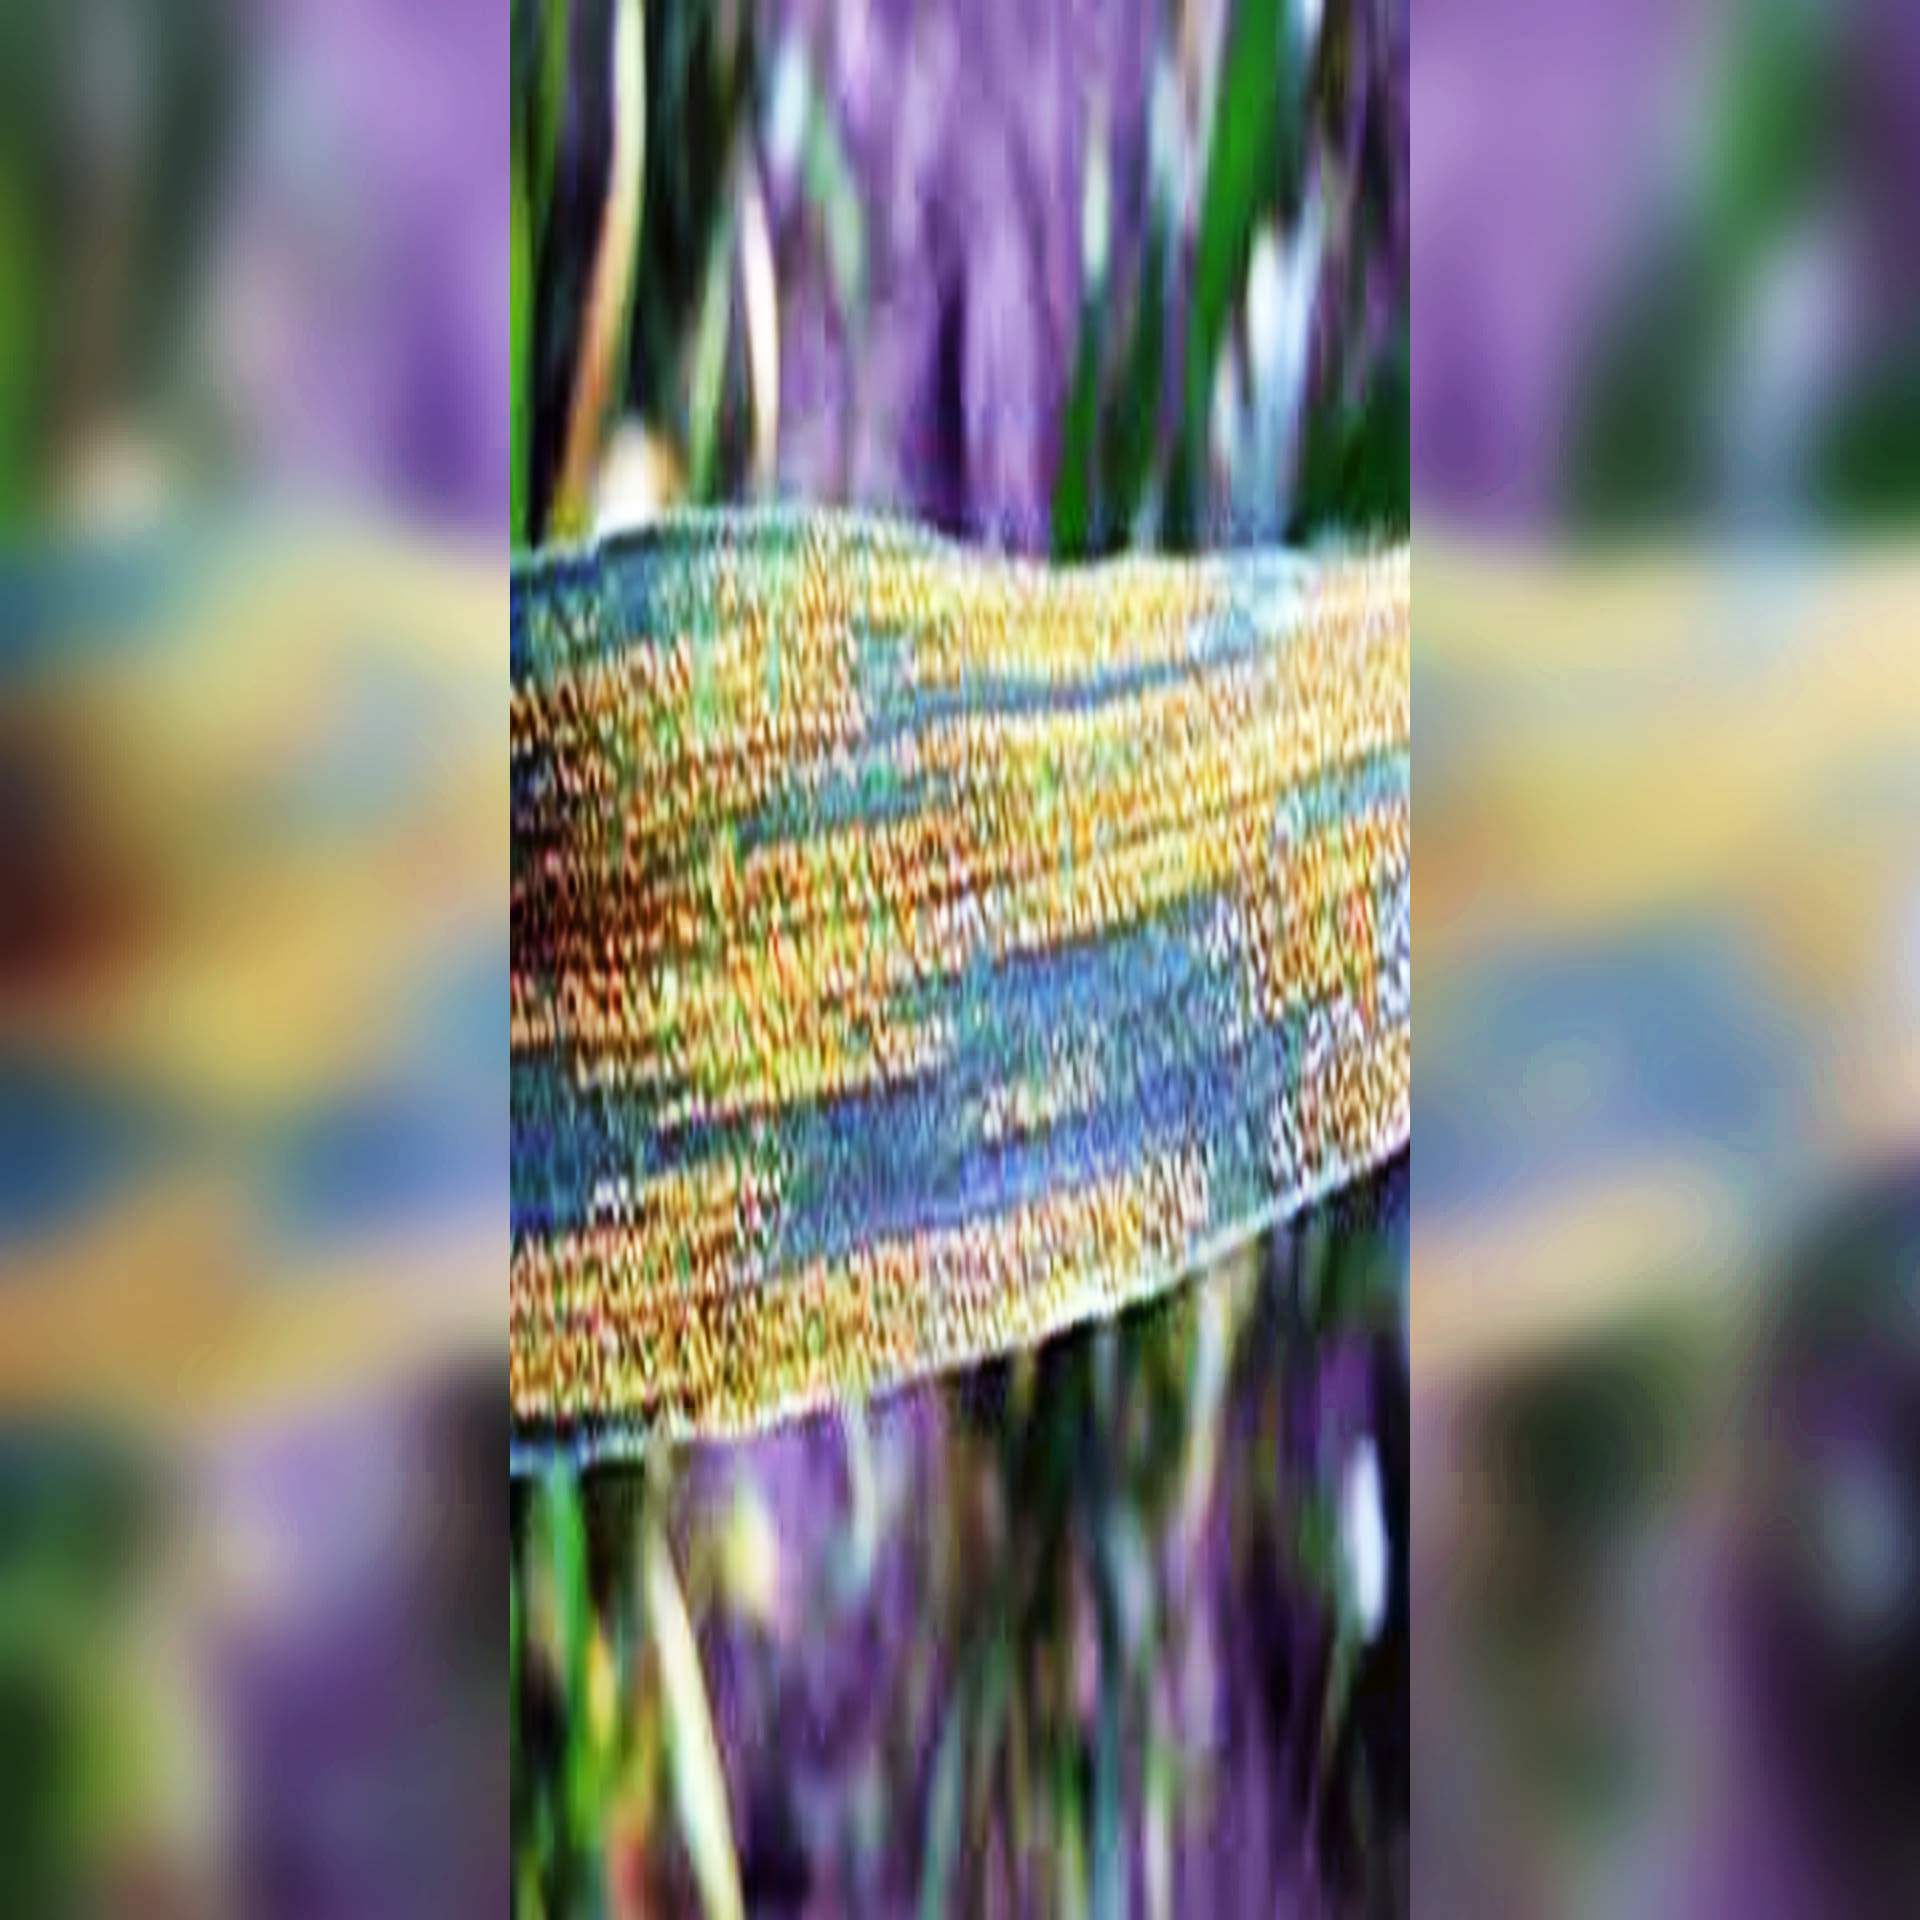Leaf Rust: (527, 492, 1415, 1382)
